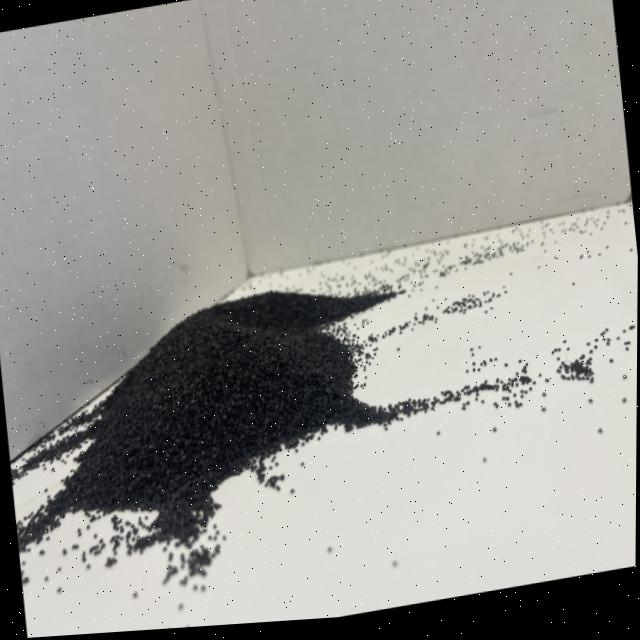Poppy Seeds: (0, 242, 440, 584)
